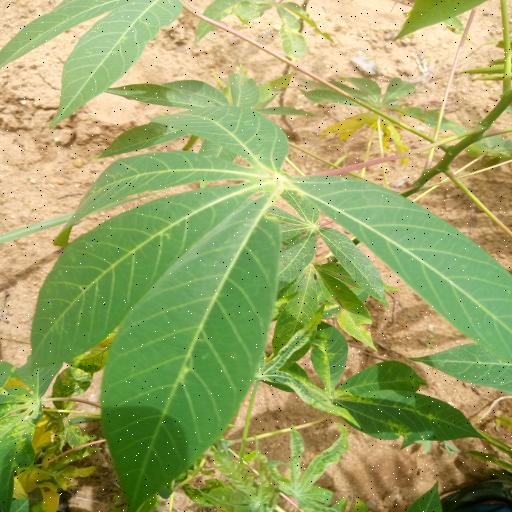Cassava_Healthy: (28, 112, 512, 511)
Cassava_Mosaic: (300, 318, 475, 453)
